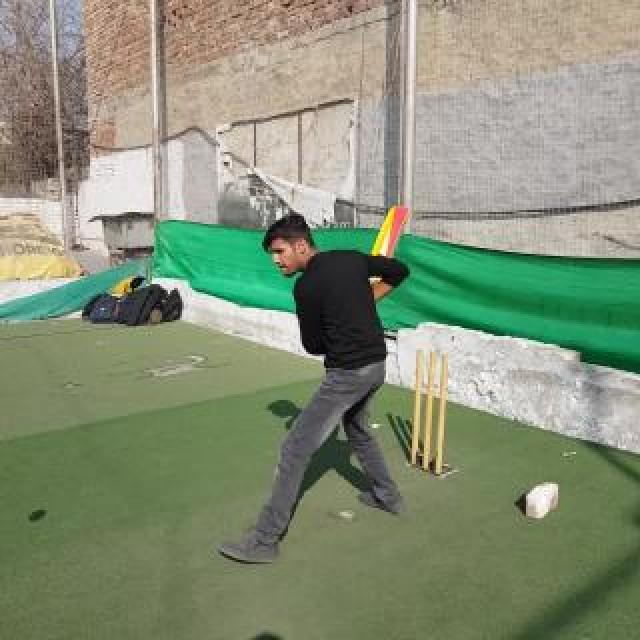bat: (371, 205, 413, 257)
